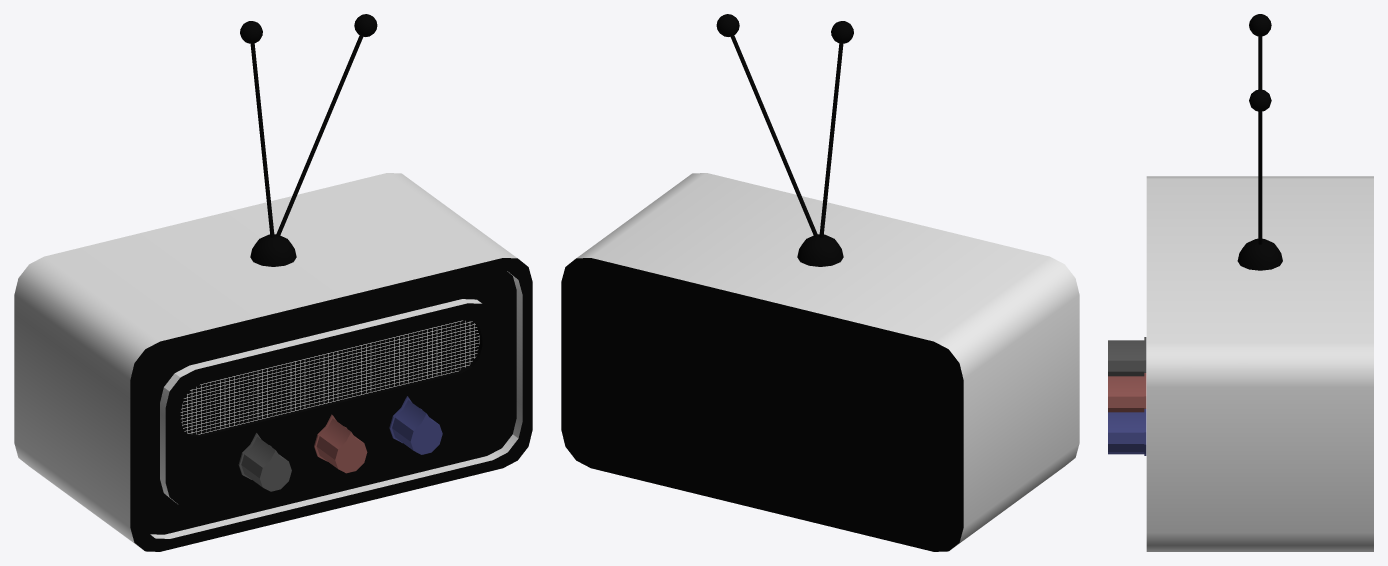
The model's file is radio.fbx.
3 renders of one model, left to right at view 1: azimuth 30°, elevation 25°; view 2: azimuth 150°, elevation 25°; view 3: azimuth 270°, elevation 25°, orthographic. The views are drawn at different scales.
Visible parts, largest first — view 1: Radio, Plane.001, Bouton Song, Bouton Sizzle, Bouton Morse, Sphere.001, Sphere.002, Sphere; view 2: Radio, Sphere.001, Sphere.002, Sphere; view 3: Radio, Bouton Sizzle, Bouton Song, Bouton Morse, Sphere, Sphere.001, Sphere.002.
Boxes of the visible parts, box(x1,y1,x2,y2) form: Radio: box(14, 173, 532, 551); Plane.001: box(180, 320, 479, 434); Bouton Song: box(314, 414, 367, 473); Bouton Sizzle: box(389, 396, 442, 454); Bouton Morse: box(238, 433, 291, 491); Sphere.001: box(275, 14, 377, 236); Sphere.002: box(240, 21, 274, 237); Sphere: box(250, 234, 296, 266); Radio: box(561, 173, 1079, 551); Sphere.001: box(716, 14, 818, 236); Sphere.002: box(819, 21, 853, 237); Sphere: box(797, 234, 843, 266); Radio: box(1146, 176, 1373, 551); Bouton Sizzle: box(1108, 409, 1146, 455); Bouton Song: box(1108, 373, 1146, 412); Bouton Morse: box(1108, 337, 1146, 376); Sphere: box(1237, 238, 1282, 270); Sphere.001: box(1249, 89, 1271, 244); Sphere.002: box(1249, 14, 1271, 89).
Size of the model in its own units: 400 by 429 by 234.
